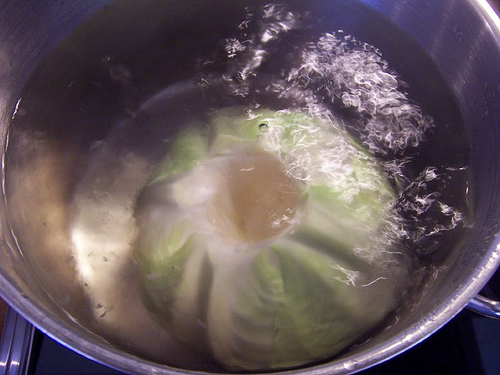cabbage: (158, 122, 494, 374)
